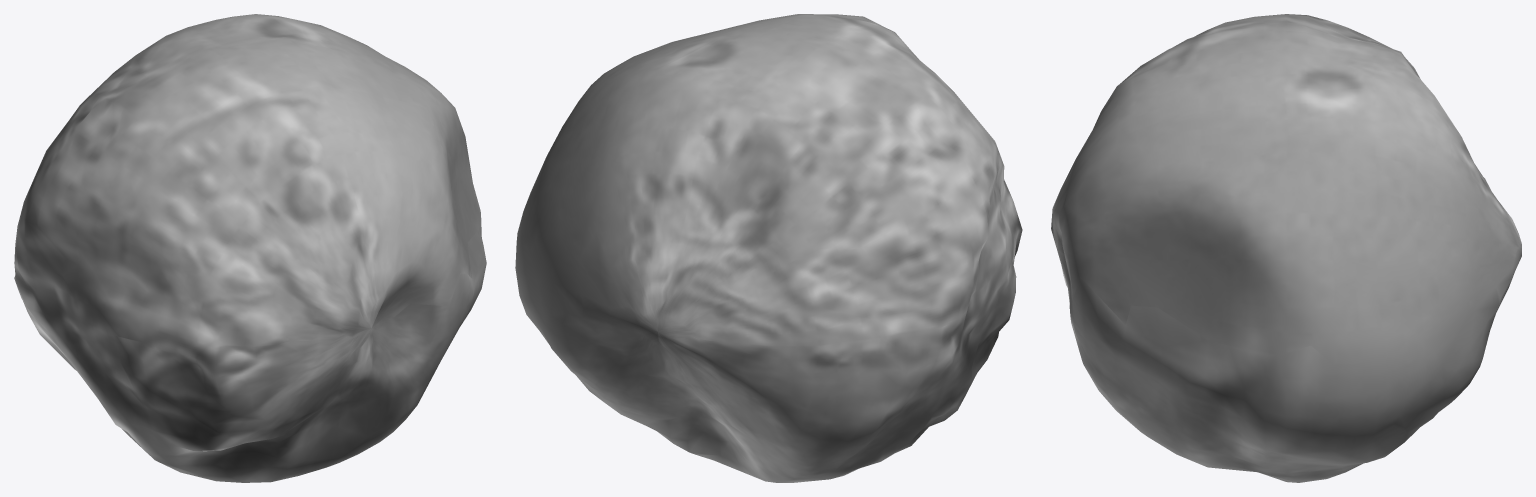
The model's file is proteus - thumbnail.dae.
3 views of the same model, side by side, from view 1: azimuth 30°, elevation 25°; view 2: azimuth 150°, elevation 25°; view 3: azimuth 270°, elevation 25° (orthographic). The views are drawn at different scales.
Visible parts, largest first — view 1: obj_0; view 2: obj_0; view 3: obj_0.
Boxes of the visible parts, bbox=[...] form: obj_0: bbox=[14, 14, 486, 482]; obj_0: bbox=[515, 14, 1022, 482]; obj_0: bbox=[1051, 14, 1521, 482].
Size of the model in its own units: 1.89 by 1.78 by 1.72.
1 material, 1 textured.
